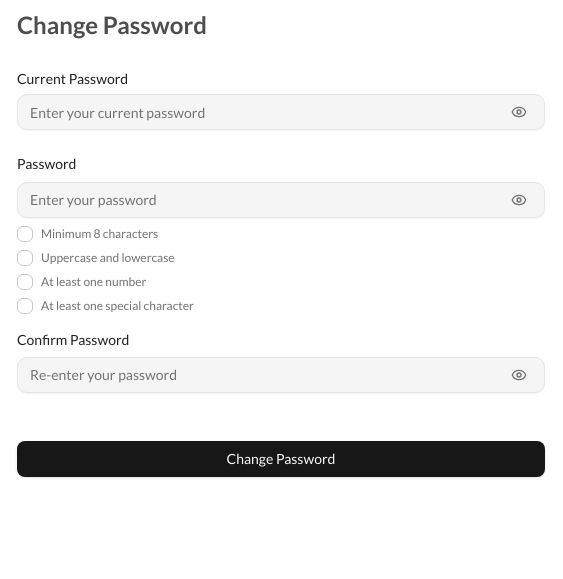
ChangePassword Component › Error Handling › should display fallback error message when no message in response
Type "OldPass1!" into the password field labelled "Current Password" at (281, 112), box [17,94,545,130]
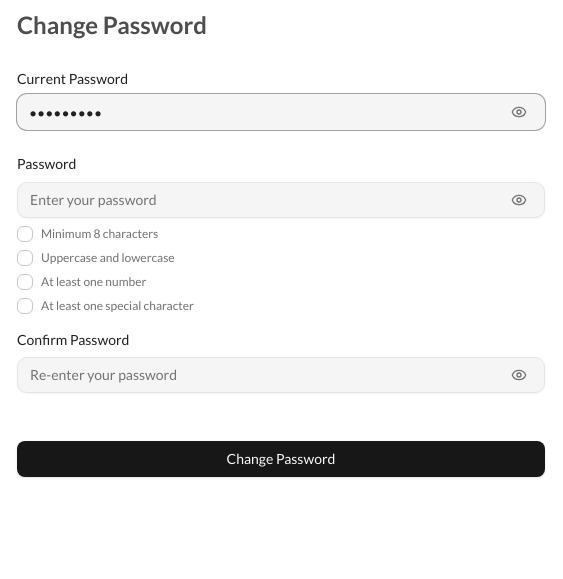
Type "NewPass1!" into the password field labelled "Password" at (281, 200), box [17,182,545,218]
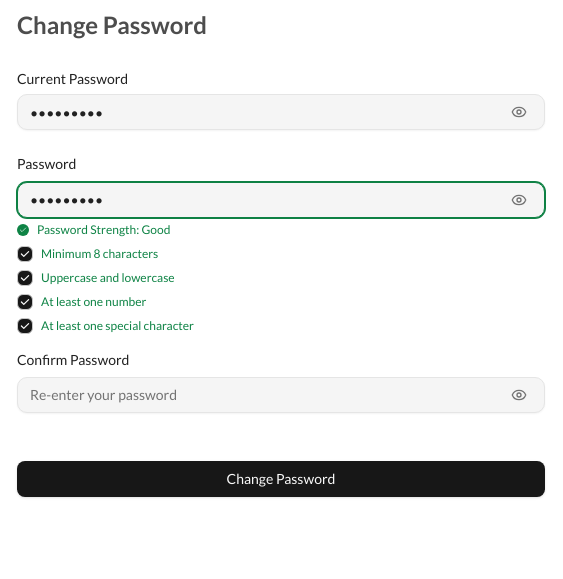
Type "NewPass1!" into the password field labelled "Confirm Password" at (281, 395), box [17,377,545,413]
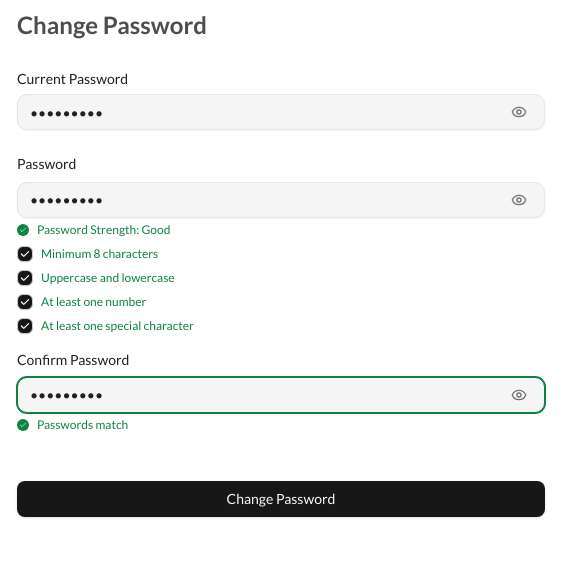
Click the button "Change Password" at (281, 499), box [17,481,545,517]
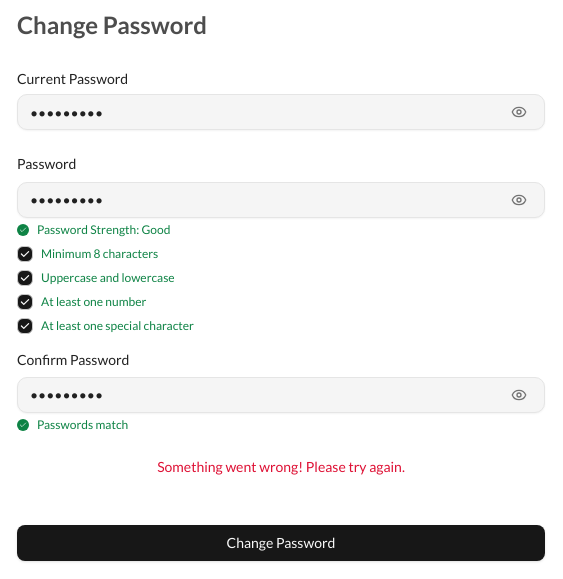
Now the text "Something went wrong! Please try again." is shown, box [157,458,405,475]
